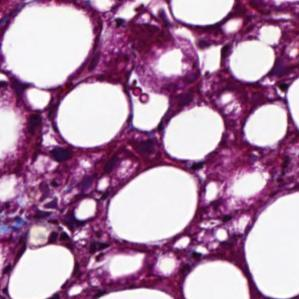inflammation: (36, 196, 88, 244), (111, 3, 174, 34)
